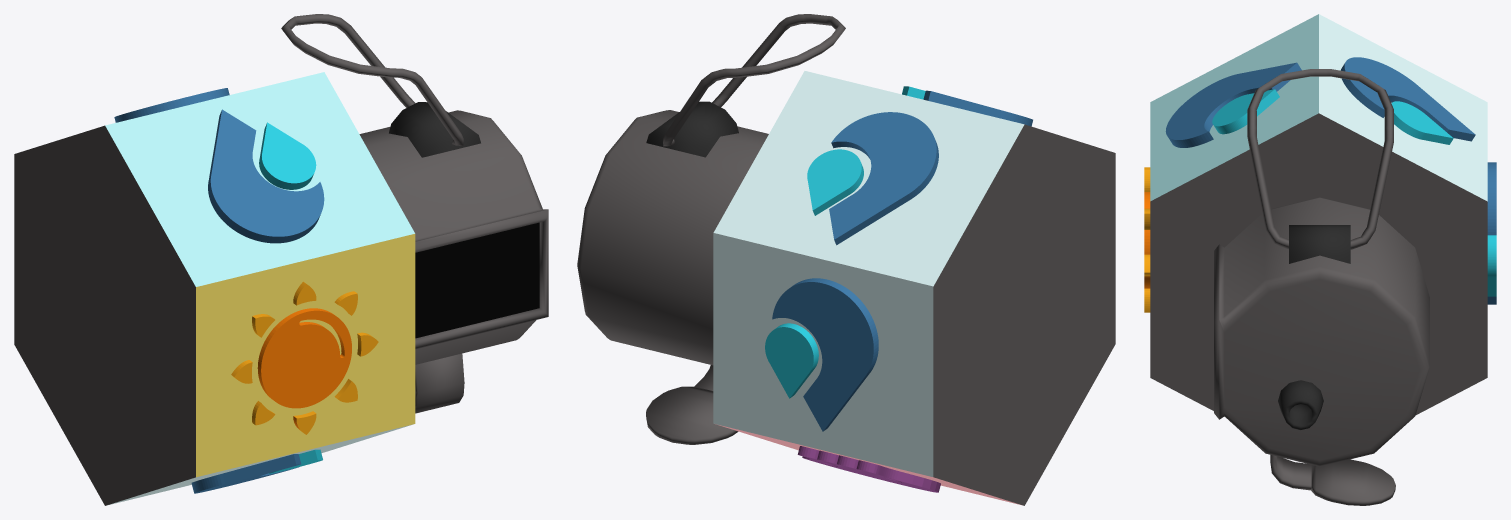
Rendered from counter.glb.
The picture shows the model from 3 angles, left to right: view 1: azimuth 30°, elevation 25°; view 2: azimuth 150°, elevation 25°; view 3: azimuth 270°, elevation 25°; orthographic projection. The views are drawn at different scales.
Parts seen in each view (by area): view 1: Cylinder, counter, plane, counter_cord, counter_trigger; view 2: Cylinder, counter, counter_trigger, counter_cord; view 3: Cylinder, counter, counter_cord, counter_trigger.
Boxes of the visible parts, x1,y1,x2,y2 form: Cylinder: (14,72,415,505); counter: (359,102,548,364); plane: (415,222,539,338); counter_cord: (281,14,463,145); counter_trigger: (415,353,464,413); Cylinder: (713,71,1115,505); counter: (577,101,768,365); counter_trigger: (646,365,738,444); counter_cord: (663,14,845,146); Cylinder: (1144,14,1496,416); counter: (1214,197,1429,466); counter_cord: (1247,69,1393,249); counter_trigger: (1270,455,1395,505).
Bounding box in the file's own units: 0.5436 × 0.5151 × 0.4253.
2 materials, 1 textured.
